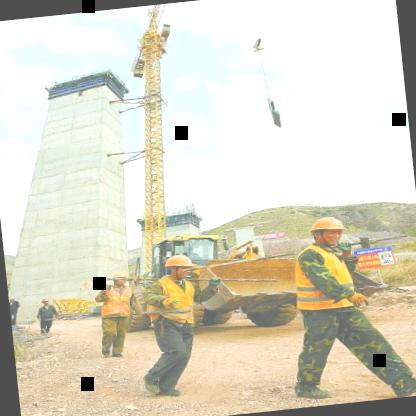helmet: (302, 211, 350, 247), (160, 250, 198, 282), (104, 266, 132, 289)
